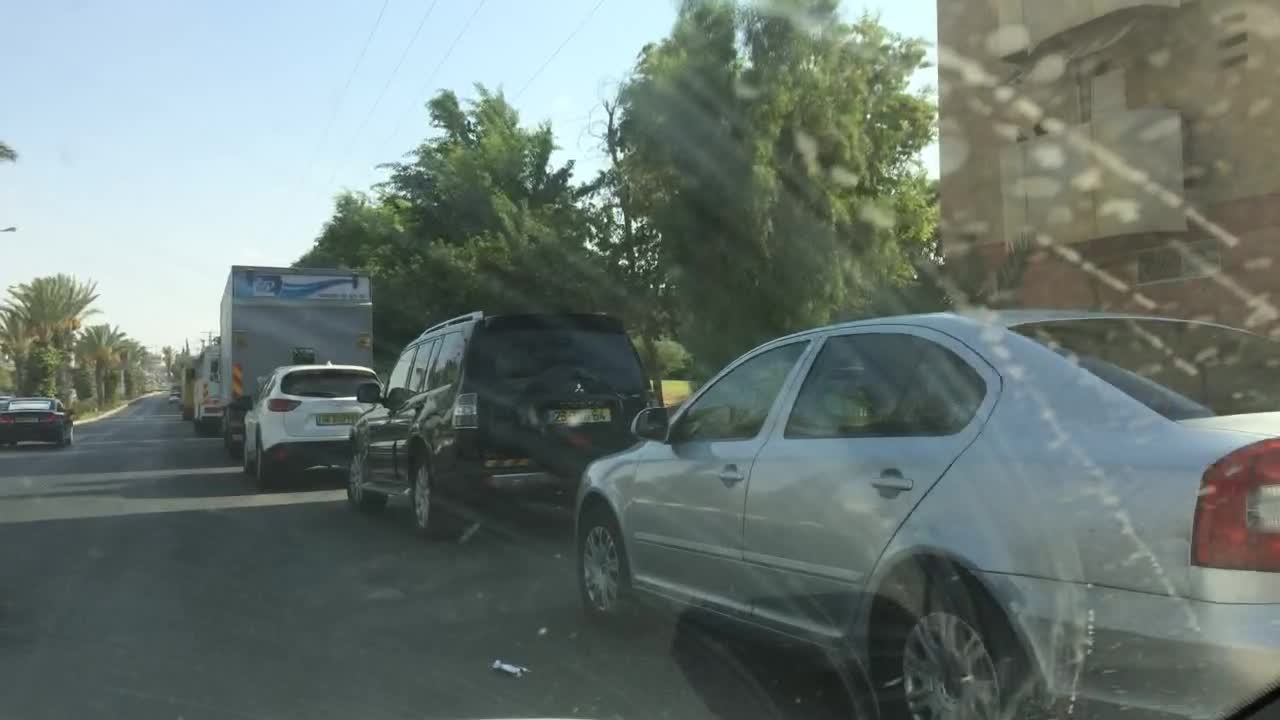car: (576, 308, 1279, 718), (346, 309, 665, 538), (242, 361, 383, 481), (1, 395, 74, 450), (166, 387, 180, 405), (0, 393, 13, 411), (157, 382, 168, 391)
truck: (219, 265, 372, 457), (195, 352, 226, 431), (180, 369, 199, 420)
